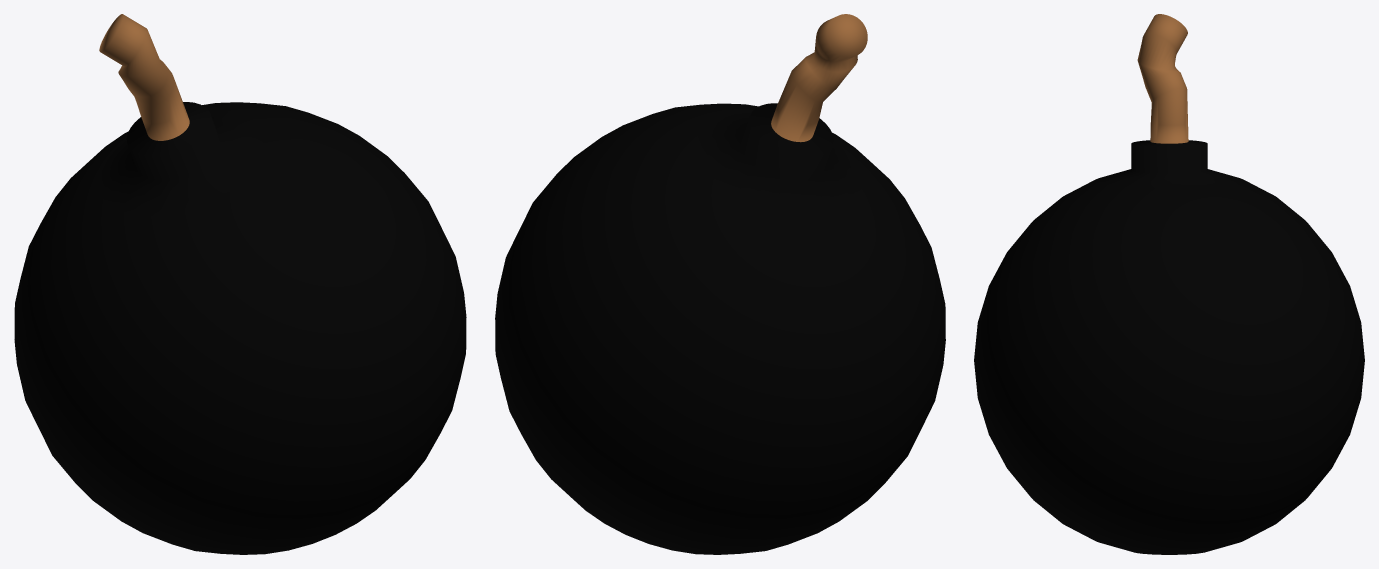
The model's file is Bomb.dae.
3 renders of one model, left to right at view 1: azimuth 30°, elevation 25°; view 2: azimuth 150°, elevation 25°; view 3: azimuth 270°, elevation 25°, orthographic. The views are drawn at different scales.
Visible parts, largest first — view 1: Sphere; view 2: Sphere; view 3: Sphere.
Boxes of the visible parts, left/top/right/bottom form: Sphere: left=14, top=14, right=466, bottom=554; Sphere: left=495, top=14, right=945, bottom=554; Sphere: left=974, top=14, right=1364, bottom=554.
Size of the model in its own units: 2 by 2 by 2.67.
